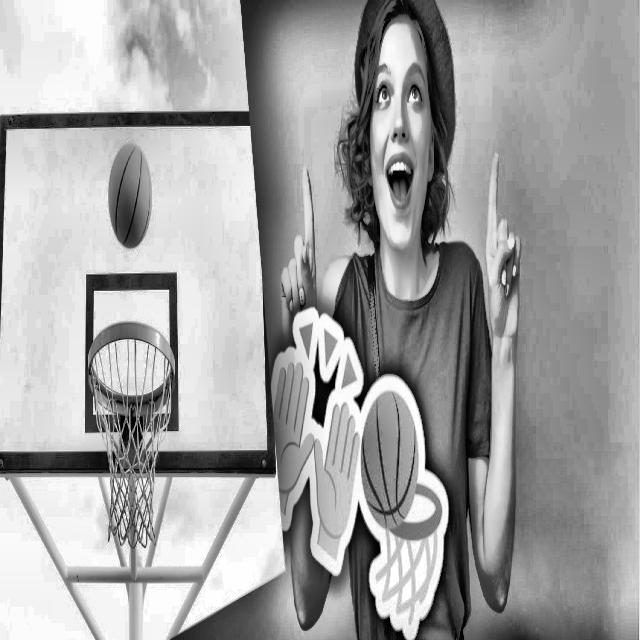Basketball: (108, 142, 151, 247)
